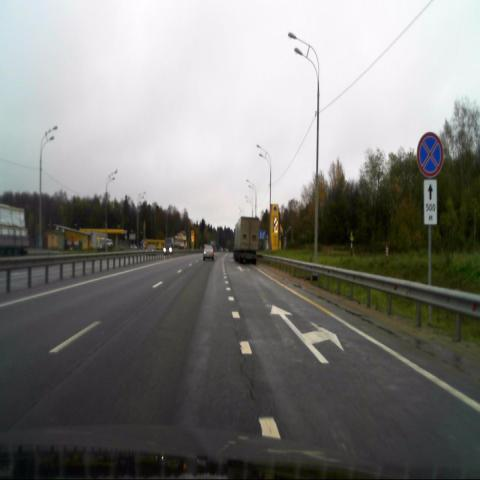8_2_2: (424, 179, 437, 224)
